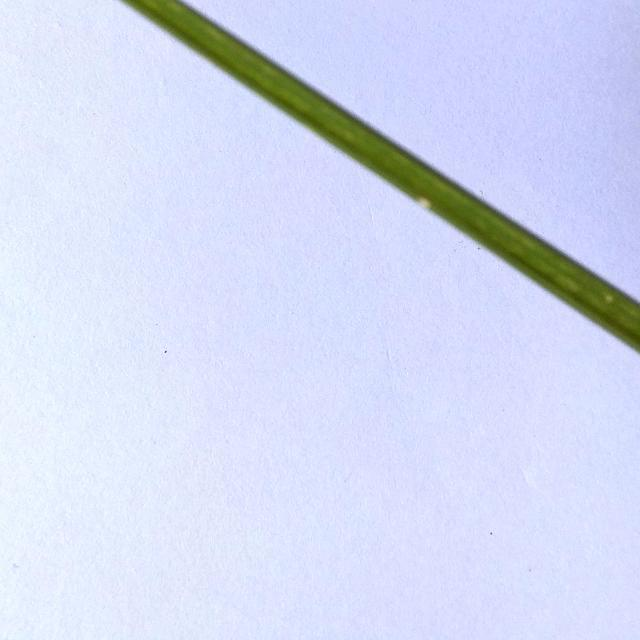Blast: (416, 196, 444, 209)
